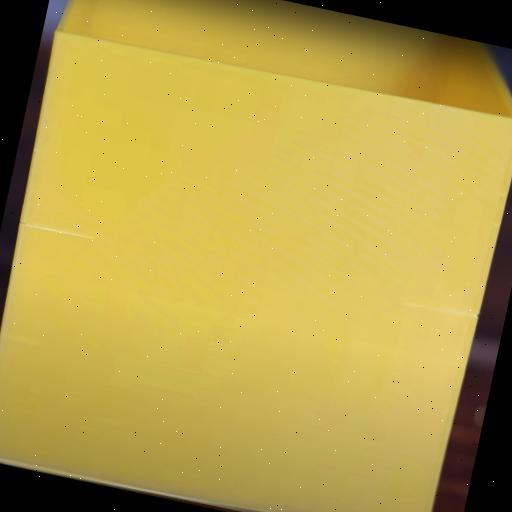cracks: (10, 206, 116, 259), (387, 282, 493, 332)
